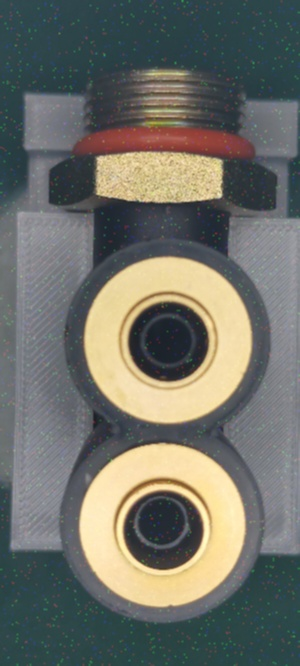white mark: (160, 203, 177, 218)
